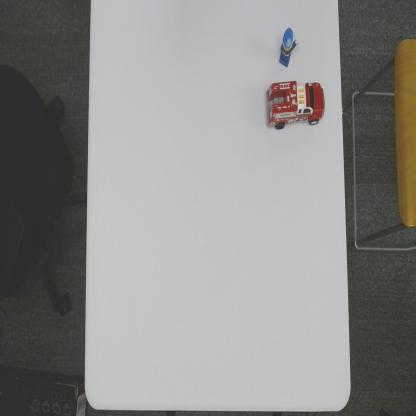Firetruck: (266, 81, 326, 130)
